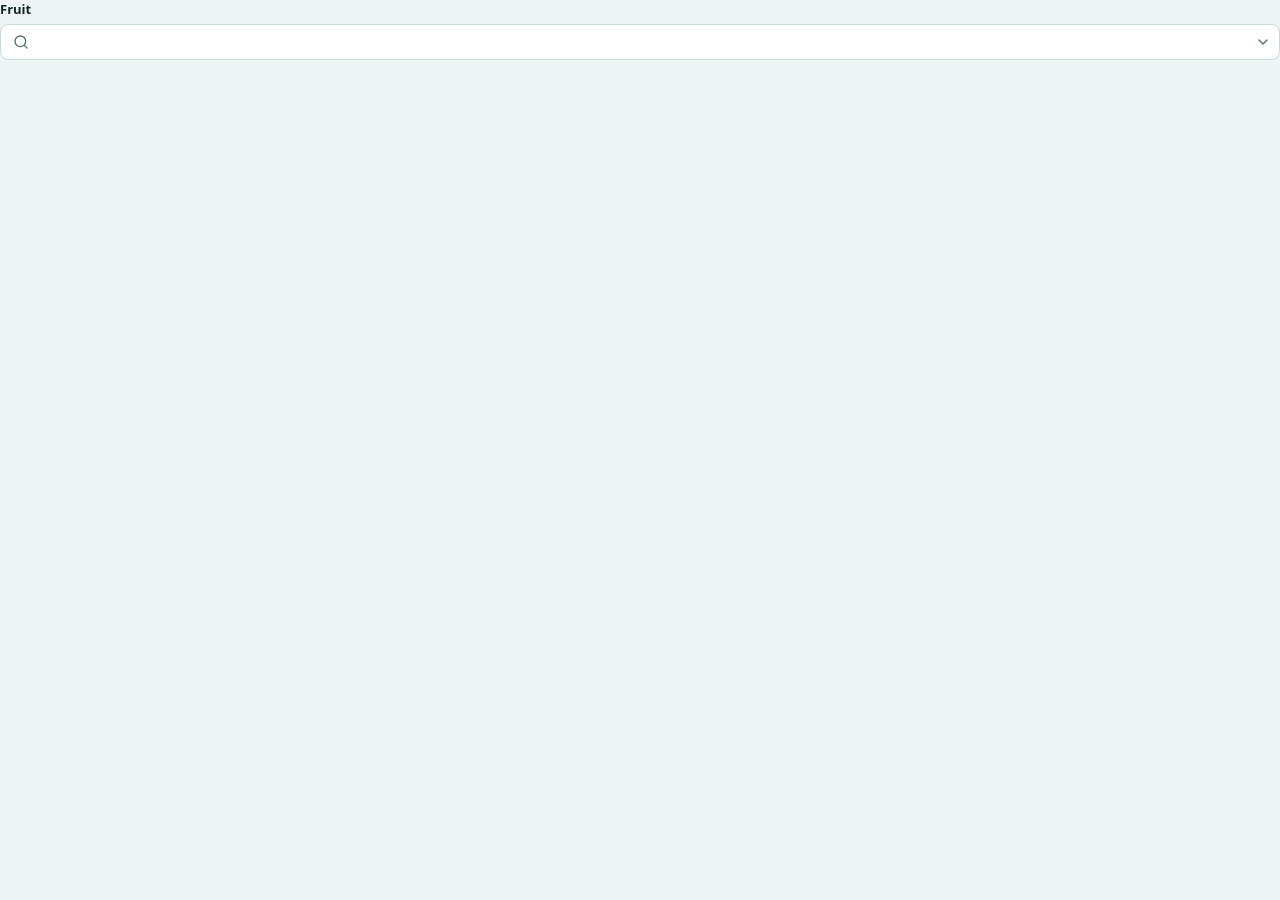
it: Combobox › filtra sem acento e sem caixa; sem resultado avisa na região viva
Type "ACAI" into the dropdown labelled "Fruit".
click(640, 42); type("ACAI")  # box [37,24,1243,58]
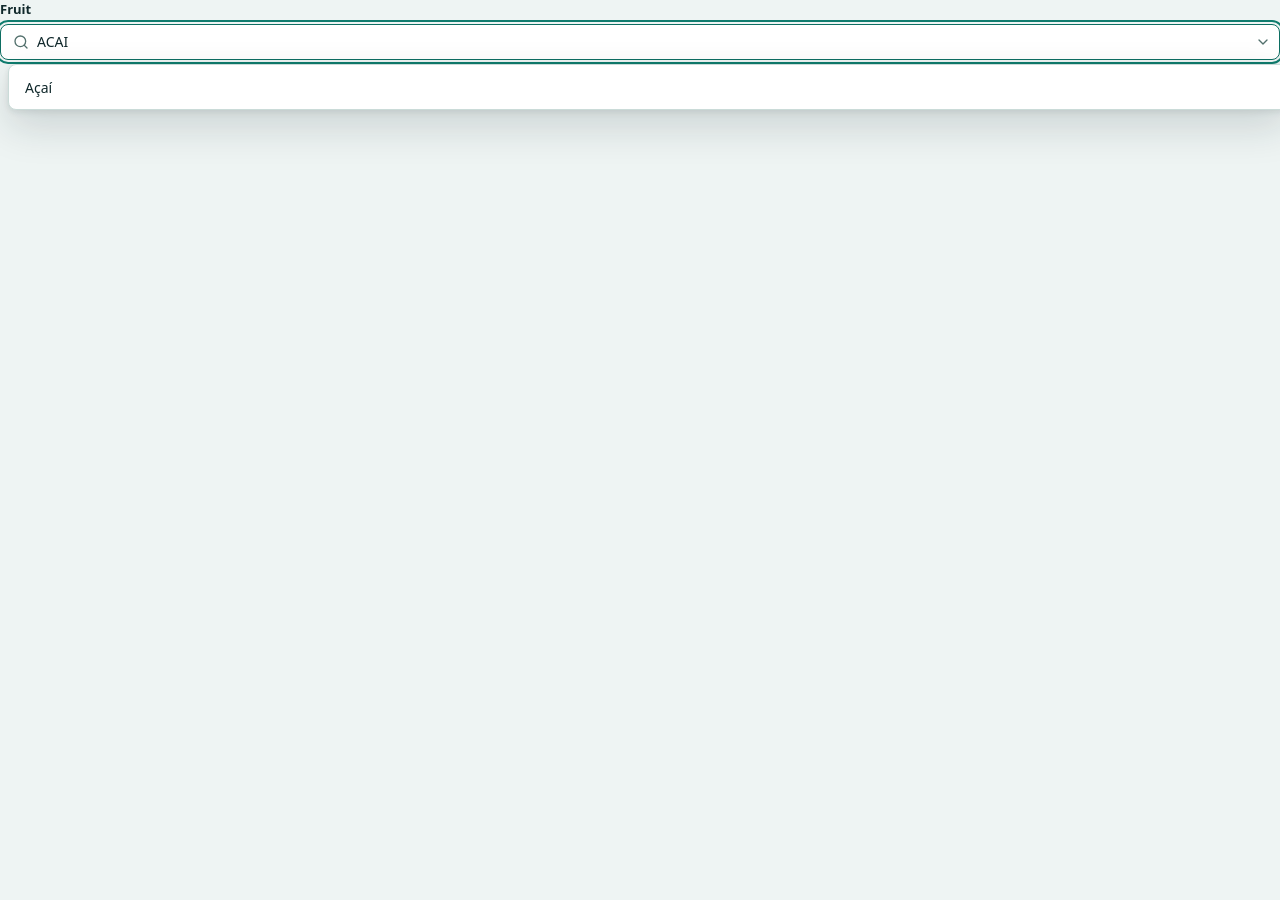
Expected: the option "Açaí" is shown, [25,78,52,96]
Replace the text in the dropdown labelled "Fruit" with "zzz" at (640, 42), box [37,24,1243,58]
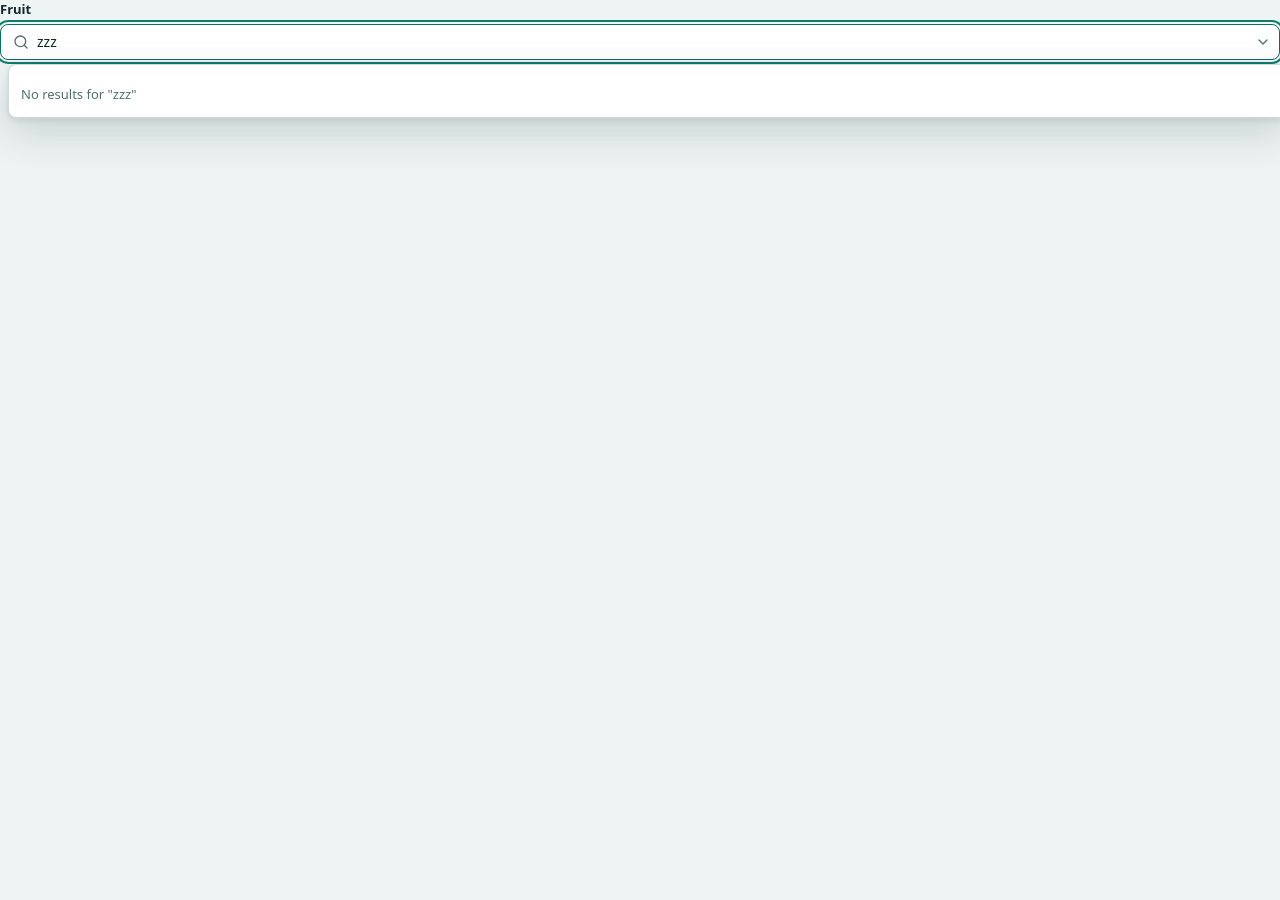
Expected: no options are shown
